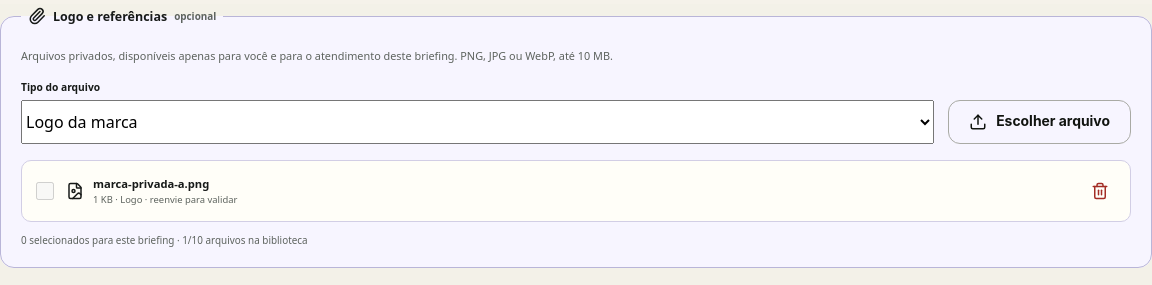
Test case: privacidade de anexos durante troca de sessão › mantém arquivo antigo não verificado indisponível para seleção, mas permite removê-lo
Expected: the text "marca-privada-a.png" is shown, [93,176,209,191]
Expected: the checkbox is disabled, [36,182,54,200]
What coordinates should you click on to do the following:
click the button named "Remover marca-privada-a.png"
I would click on:
 (1100, 191)
Its box is [1080,171,1120,211].
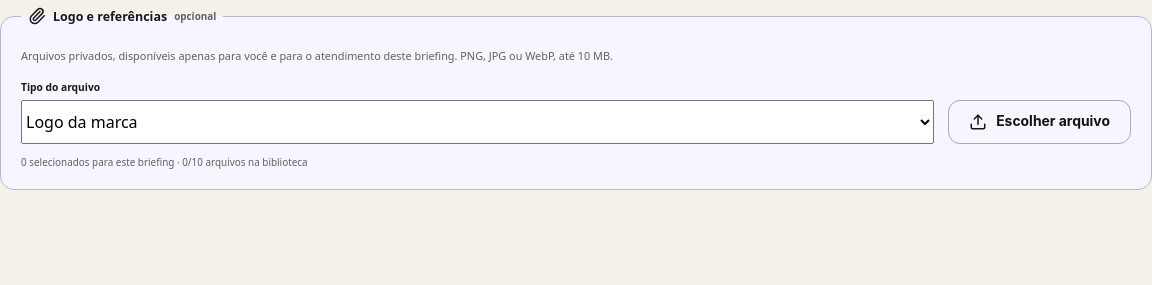
Result: the text "marca-privada-a.png" is gone
